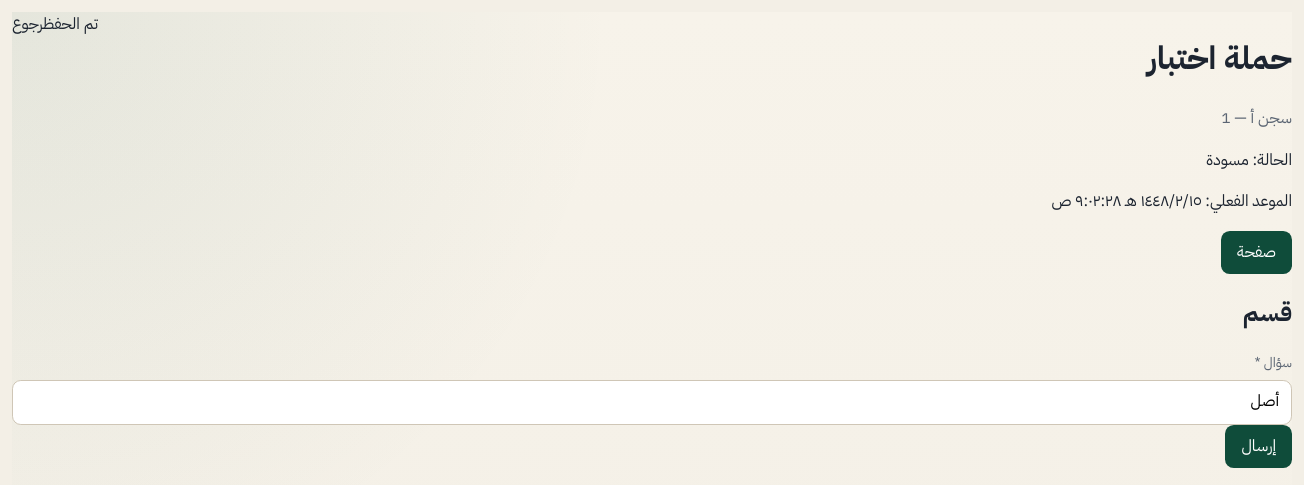
it: RespondPage › shows offline state when save fails without network
Type "x" into the field labelled "سؤال".
click(652, 402); type("x")  # box [12,380,1292,425]
Wait 900 ms
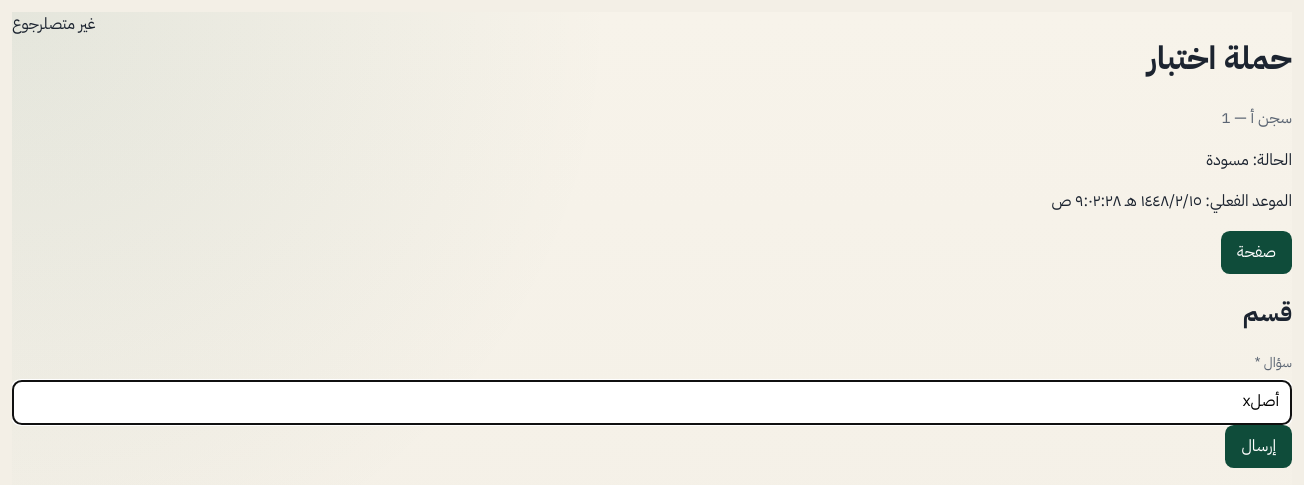
Expected: the text "غير متصل" is shown, [43,12,96,36]
